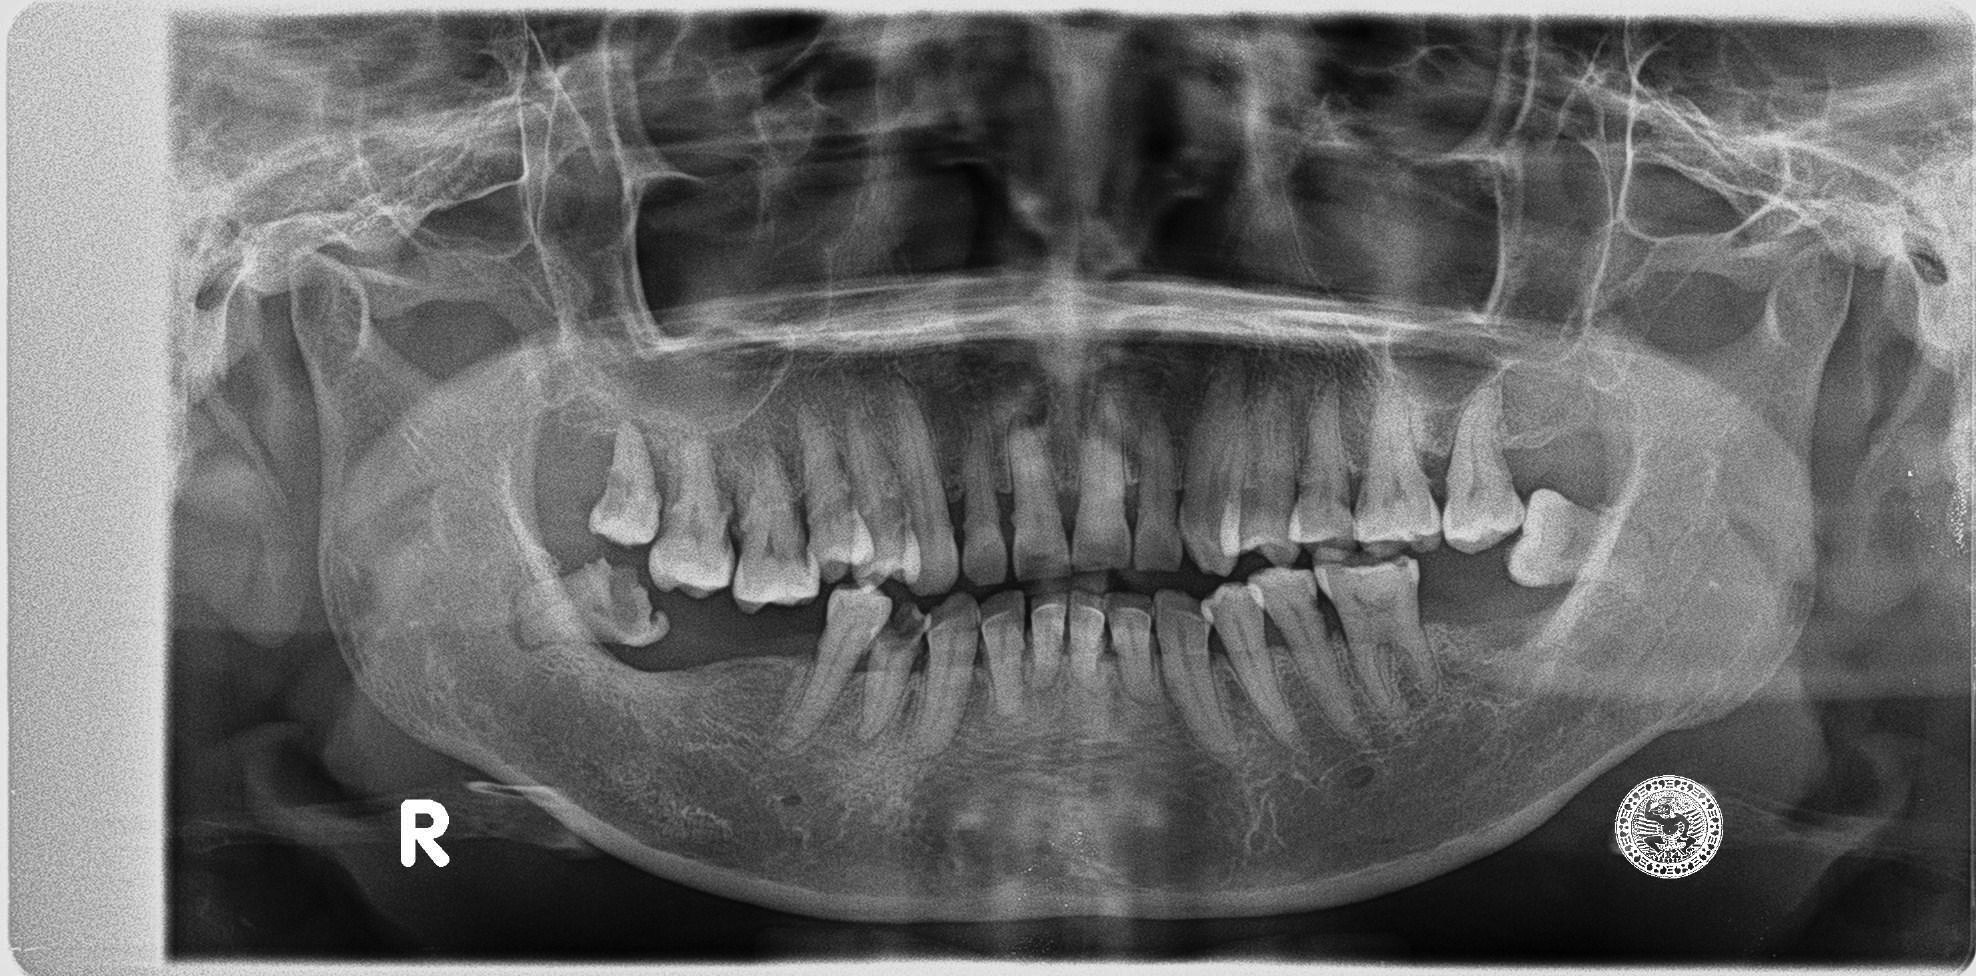Individual Tooth: (1314, 549, 1434, 717), (1250, 567, 1364, 741), (1214, 386, 1307, 571), (789, 583, 893, 743), (1353, 359, 1440, 549), (1203, 584, 1301, 745), (1154, 591, 1240, 769), (731, 441, 819, 613), (1442, 373, 1525, 554), (1180, 357, 1248, 576), (794, 406, 873, 583), (514, 559, 669, 647), (649, 438, 733, 596), (844, 409, 920, 585), (1289, 380, 1357, 565), (897, 388, 958, 594), (1072, 390, 1132, 571), (912, 593, 978, 755), (854, 601, 928, 741), (1008, 427, 1069, 581), (1508, 489, 1597, 588), (590, 427, 660, 546), (962, 426, 1008, 586), (1134, 425, 1182, 571), (1109, 595, 1161, 704), (980, 590, 1025, 712), (1030, 593, 1067, 688), (1067, 591, 1105, 677), (1105, 530, 1115, 543)
